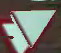Give way: (2, 7, 58, 51)
